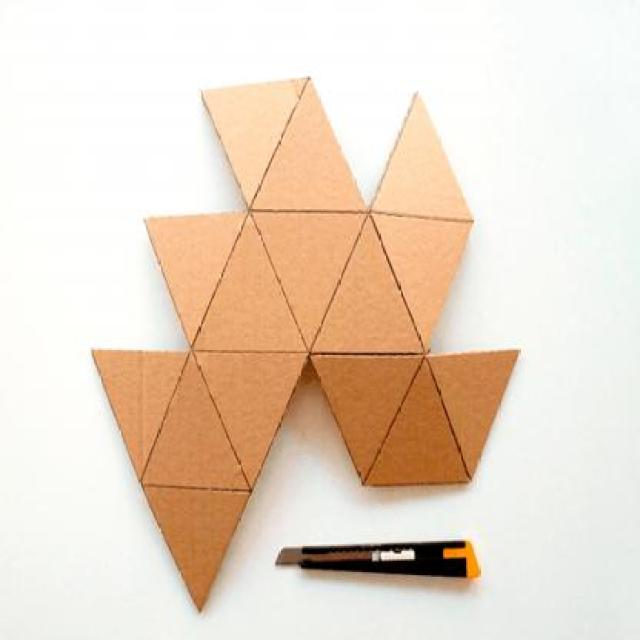box: (88, 44, 526, 614)
